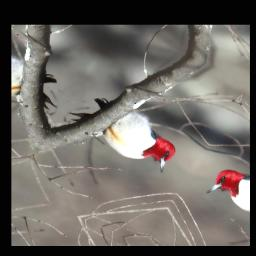Woodpecker: (55, 85, 189, 176)
